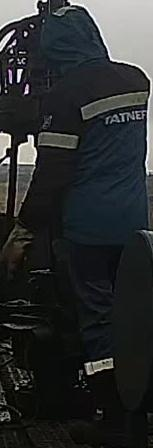gloves: (0, 216, 38, 288)
vest: (41, 59, 152, 248)
